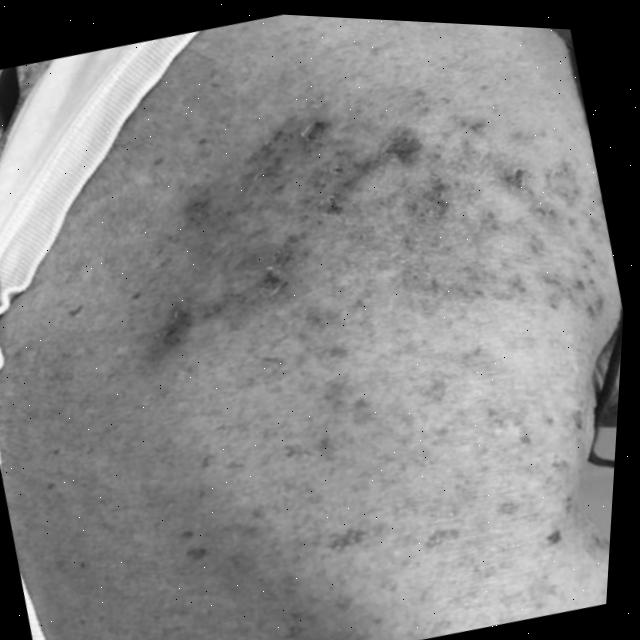Shingles: (148, 87, 621, 390)
